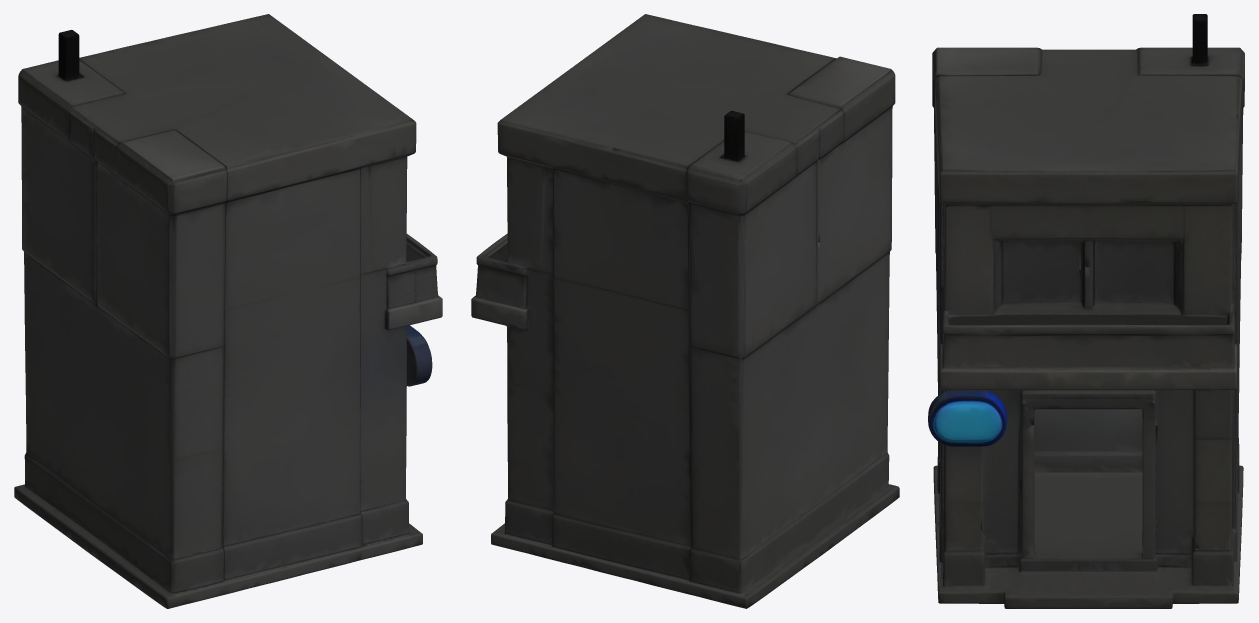
The model's file is soap.glb.
3 renders of one model, left to right at view 1: azimuth 30°, elevation 25°; view 2: azimuth 150°, elevation 25°; view 3: azimuth 270°, elevation 25°, orthographic.
Parts seen in each view (by area): view 1: tripo_node_56e0ebbf-9f13-4531-9053-19f13eee093b; view 2: tripo_node_56e0ebbf-9f13-4531-9053-19f13eee093b; view 3: tripo_node_56e0ebbf-9f13-4531-9053-19f13eee093b.
Boxes of the visible parts, box(x1,y1,x2,y2) form: tripo_node_56e0ebbf-9f13-4531-9053-19f13eee093b: box(14, 14, 442, 608); tripo_node_56e0ebbf-9f13-4531-9053-19f13eee093b: box(471, 14, 899, 608); tripo_node_56e0ebbf-9f13-4531-9053-19f13eee093b: box(928, 14, 1244, 608).
Size of the model in its own units: 0.6256 by 0.9999 by 0.603.
Materials: 1 (1 with a texture image).
